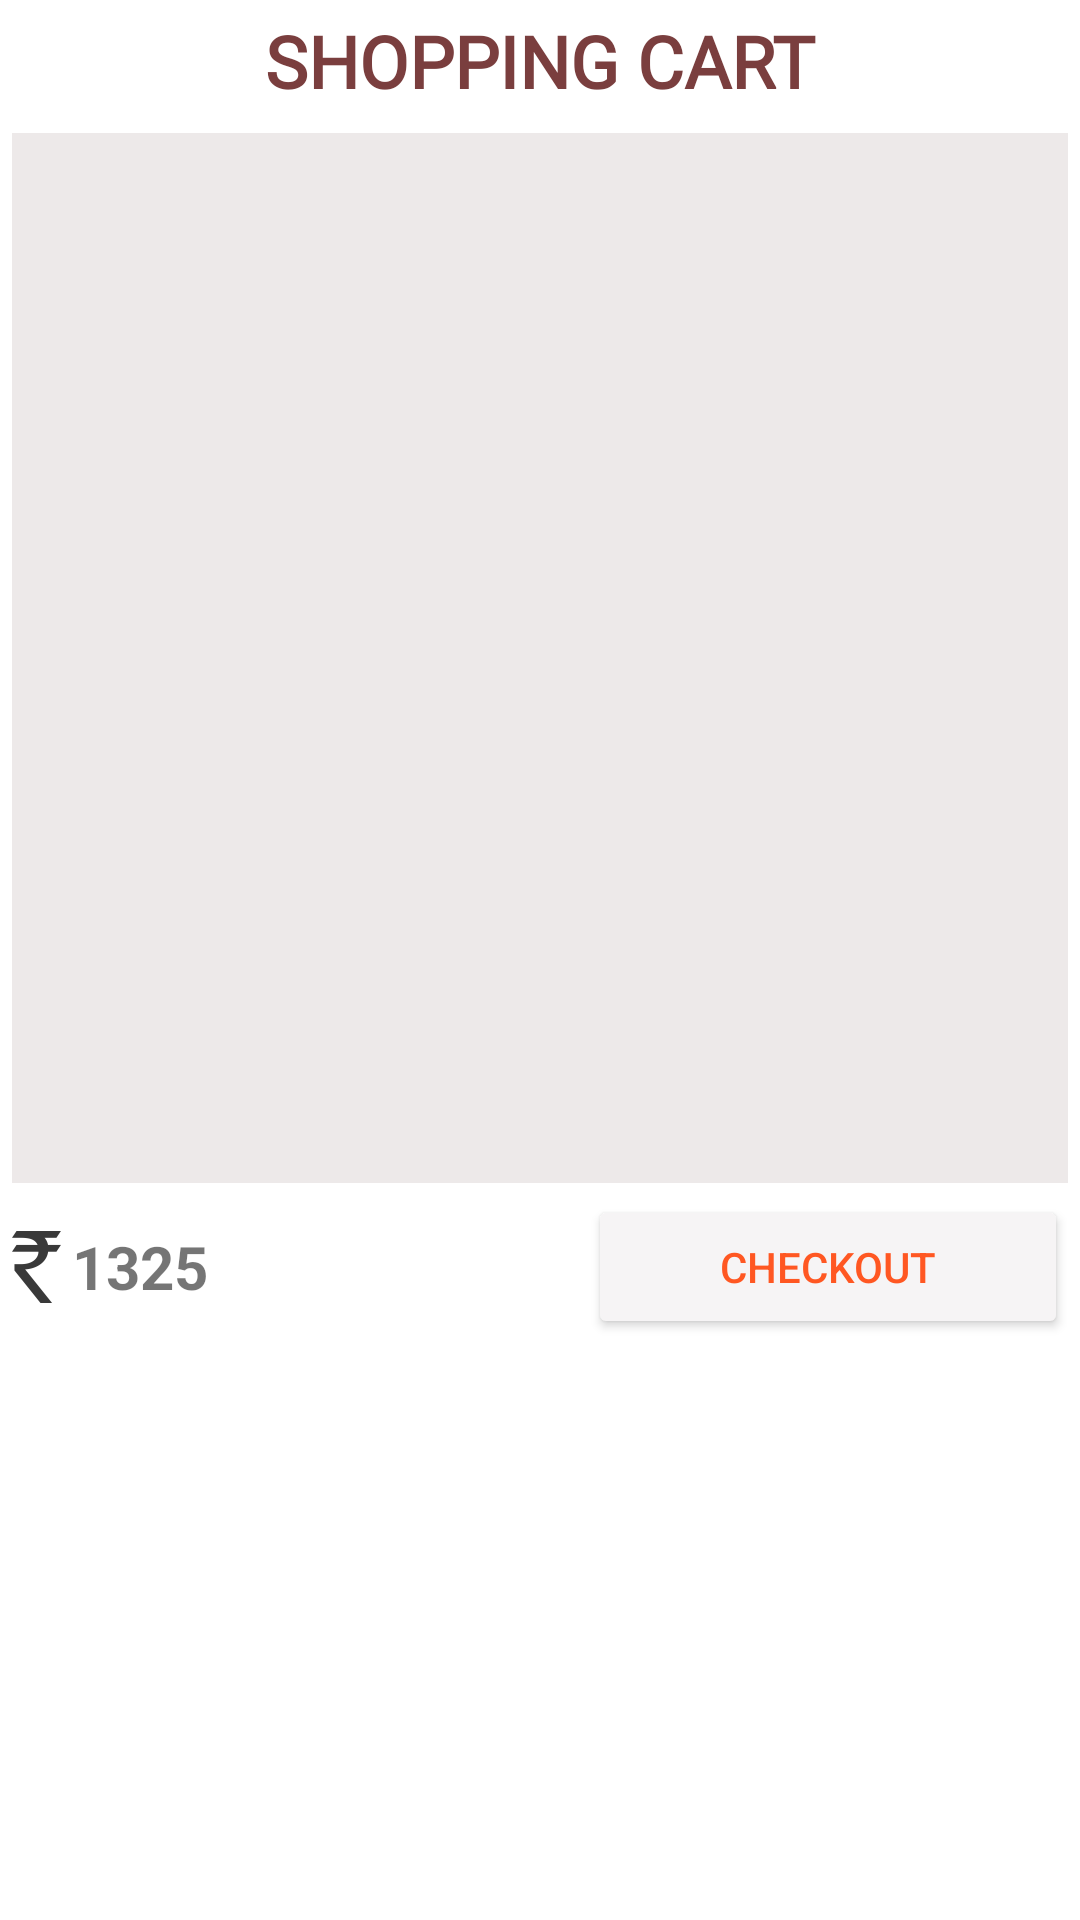

Where icons sit on this 1080w x 1920h app screen, as BBox(x1, y1, x2, y2):
rupee: BBox(12, 1231, 61, 1303)
